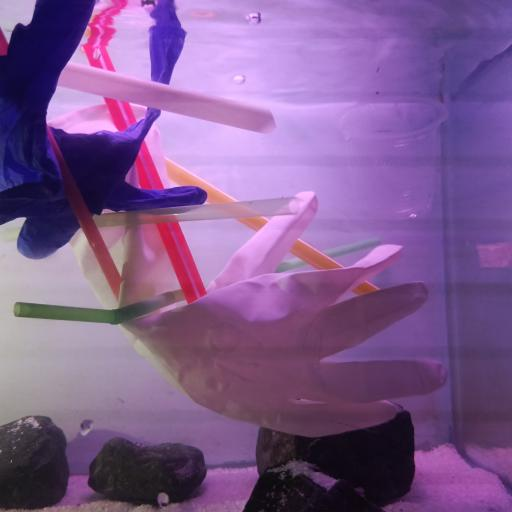glove: (46, 102, 451, 438), (0, 1, 208, 260)
plastic_cup: (332, 94, 448, 222)
plastic_straw: (12, 236, 382, 326), (81, 42, 207, 304), (165, 156, 380, 298), (56, 62, 276, 134), (48, 123, 123, 301), (94, 193, 300, 229)
